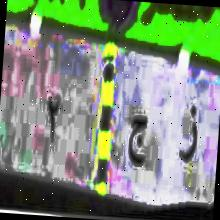2: (41, 91, 64, 145)
jeem: (124, 106, 151, 178)
zay: (175, 95, 202, 165)
